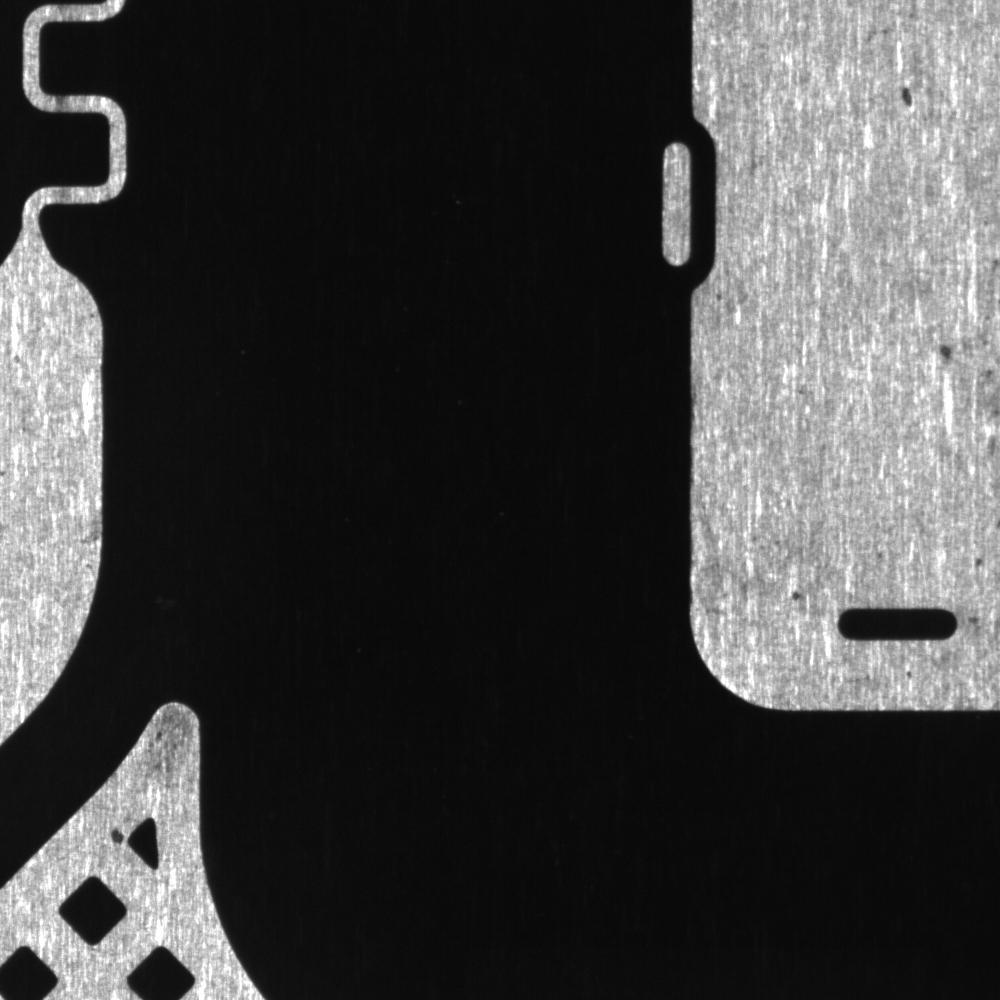Etching: (928, 306, 998, 524), (888, 56, 944, 143), (963, 538, 993, 650), (97, 804, 128, 860)
Pinhole: (775, 576, 817, 618)
